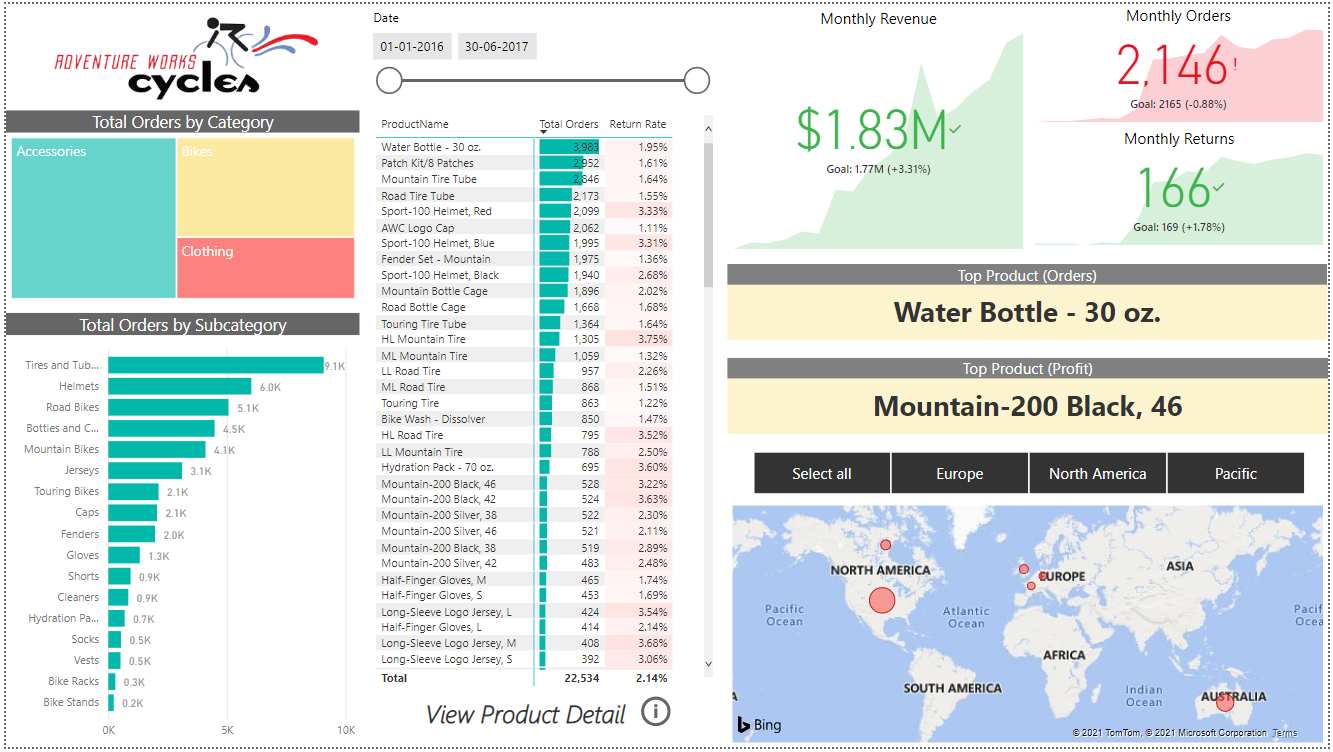

What the dashboard file says about the page in this screenshot:
{"tool":"powerbi","page":{"name":"Exec Summary","canvas":[1280,720],"ordinal":0},"visuals":[{"type":"image","box":[0,3.6,353.3,99.2],"z":0},{"type":"barChart","title":"Total Orders by Subcategory","fields":{"Y":["AW_Sales.Total Orders"],"Category":["AW_Product_Subcategory_Lookup.SubcategoryName"]},"box":[0,298.9,342.5,421.1],"z":1000},{"type":"treemap","title":"Total Orders by Category","fields":{"Group":["AW_Product_Subcategory_Lookup.SubcategoryName","AW_Product_Category_Lookup.CategoryName"],"Values":["AW_Sales.Total Orders"]},"box":[0,102.9,342.5,187.6],"z":2000},{"type":"pivotTable","fields":{"Values":["AW_Sales.Total Orders","AW_Returns.Return Rate"],"Rows":["AW_Product_Category_Lookup.CategoryName","AW_Product_Subcategory_Lookup.SubcategoryName","AW_Product_Lookup.ProductName"]},"box":[353.3,102.9,336.4,562.7],"z":3000},{"type":"slicer","fields":{"Values":["AW_Calendar_Lookup.Date"]},"box":[342.5,0,347.3,102.9],"z":4000},{"type":"kpi","title":"Monthly Revenue","fields":{"Indicator":["AW_Sales.Total Revenue"],"TrendLine":["AW_Calendar_Lookup.Start of Month"],"Goal":["AW_Sales.Prev Month Revenue"]},"box":[699.4,3.6,290.4,238.4],"z":5000},{"type":"kpi","title":"Monthly Orders","fields":{"TrendLine":["AW_Calendar_Lookup.Start of Month"],"Indicator":["AW_Sales.Total Orders"],"Goal":["AW_Sales.Prev Month Order"]},"box":[989.6,0,290.4,119.8],"z":6000},{"type":"kpi","title":"Monthly Returns","fields":{"TrendLine":["AW_Calendar_Lookup.Start of Month"],"Goal":["AW_Sales.Prev Month Returns"],"Indicator":["AW_Returns.Total Returns"]},"box":[991.1,119.8,289.2,118.6],"z":7000},{"type":"card","title":"Top Product (Orders)","fields":{"Values":["Min(AW_Product_Lookup.ProductName)"]},"box":[698.2,251.7,580.8,73.8],"z":8000},{"type":"card","title":"Top Product (Profit)","fields":{"Values":["Min(AW_Product_Lookup.ProductName)"]},"box":[697.9,342.5,582.1,73.8],"z":9000},{"type":"map","fields":{"Category":["AW_Territories_Lookup.Country"],"Size":["AW_Sales.Total Orders"]},"box":[697.9,480.4,582.1,239.6],"z":10000},{"type":"slicer","fields":{"Values":["AW_Territories_Lookup.Continent"]},"box":[697.9,427.2,582.1,53.2],"z":11000},{"type":"textbox","box":[354.6,665.5,295.3,54.5],"z":12000},{"type":"actionButton","box":[609.9,665.5,39.9,38.7],"z":13000}]}

Visuals, with their boxes in screenshot pixels (x1, y1, x2, y2), scaled from the page's 1280x720 canvas onto the 1333x752 screenshot:
image: x1=0 y1=4 x2=368 y2=107
"Total Orders by Subcategory" barChart: x1=0 y1=312 x2=357 y2=751
"Total Orders by Category" treemap: x1=0 y1=107 x2=357 y2=303
pivotTable - AW_Sales.Total Orders x AW_Returns.Return Rate: x1=368 y1=107 x2=718 y2=695
slicer - AW_Calendar_Lookup.Date: x1=357 y1=0 x2=718 y2=107
"Monthly Revenue" kpi: x1=728 y1=4 x2=1031 y2=253
"Monthly Orders" kpi: x1=1031 y1=0 x2=1332 y2=125
"Monthly Returns" kpi: x1=1032 y1=125 x2=1332 y2=249
"Top Product (Orders)" card: x1=727 y1=263 x2=1332 y2=340
"Top Product (Profit)" card: x1=727 y1=358 x2=1332 y2=435
map - AW_Territories_Lookup.Country x AW_Sales.Total Orders: x1=727 y1=502 x2=1332 y2=751
slicer - AW_Territories_Lookup.Continent: x1=727 y1=446 x2=1332 y2=502
textbox: x1=369 y1=695 x2=677 y2=751
actionButton: x1=635 y1=695 x2=677 y2=735
